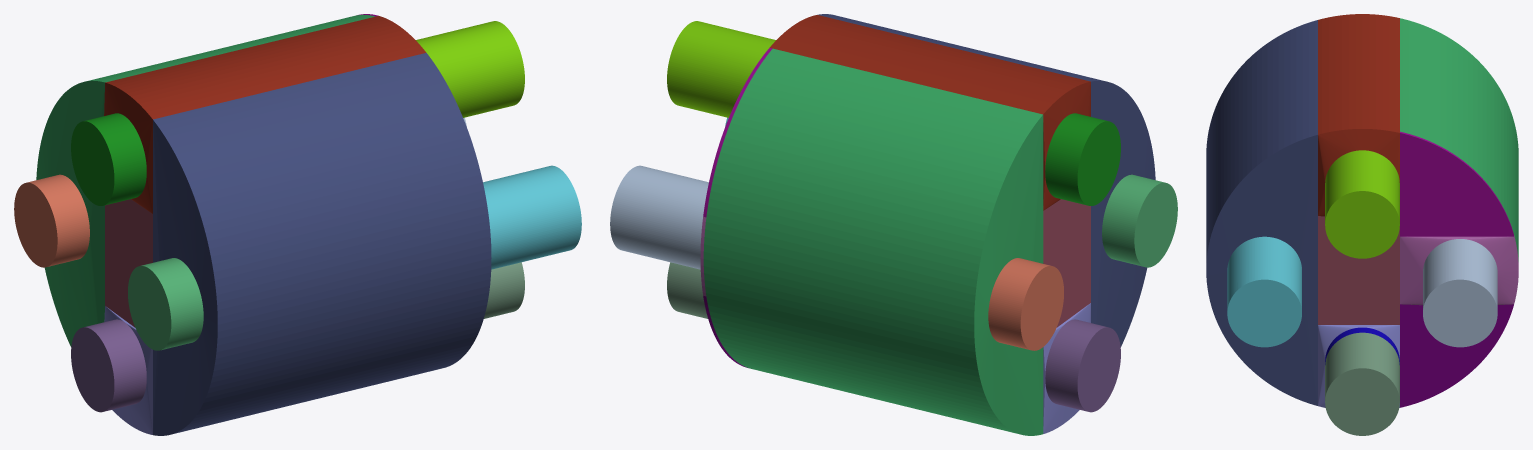
Rendered from 2_canonical.obj.
The picture shows the model from 3 angles, left to right: view 1: azimuth 30°, elevation 25°; view 2: azimuth 150°, elevation 25°; view 3: azimuth 270°, elevation 25°; orthographic projection. The views are drawn at different scales.
Visible parts, largest first — view 1: geometry_16, geometry_15, geometry_10, geometry_2, geometry_4, geometry_8, geometry_1, geometry_9, geometry_3, geometry_13, geometry_0, geometry_12; view 2: geometry_10, geometry_15, geometry_16, geometry_6, geometry_4, geometry_1, geometry_3, geometry_8, geometry_9, geometry_13, geometry_0, geometry_12 (+1 smaller); view 3: geometry_16, geometry_10, geometry_15, geometry_14, geometry_2, geometry_4, geometry_6, geometry_0, geometry_13, geometry_11, geometry_7, geometry_12 (+1 smaller).
Part boxes in pixels (x1,y1,x2,y2): geometry_16: (153,53,491,435); geometry_15: (104,16,426,213); geometry_10: (36,14,374,346); geometry_2: (483,165,581,269); geometry_4: (416,21,524,117); geometry_8: (71,113,146,205); geometry_1: (71,319,146,412); geometry_9: (14,174,89,267); geometry_3: (128,258,203,350); geometry_13: (105,199,152,327); geometry_0: (484,262,524,318); geometry_12: (104,306,152,434); geometry_10: (703,48,1043,435); geometry_15: (770,15,1090,210); geometry_16: (817,14,1155,347); geometry_6: (610,165,708,269); geometry_4: (667,21,775,117); geometry_1: (1045,319,1120,412); geometry_3: (1102,174,1177,267); geometry_8: (1045,113,1120,205); geometry_9: (988,258,1063,350); geometry_13: (1043,199,1090,327); geometry_0: (667,262,707,318); geometry_12: (1043,303,1090,433); geometry_16: (1206,20,1317,405); geometry_10: (1400,18,1518,261); geometry_15: (1318,14,1399,216); geometry_14: (1400,131,1513,236); geometry_2: (1227,236,1301,347); geometry_4: (1325,150,1399,258); geometry_6: (1423,239,1497,347); geometry_0: (1325,332,1399,435); geometry_13: (1318,216,1399,324); geometry_11: (1400,304,1513,407); geometry_7: (1400,235,1518,305); geometry_12: (1318,325,1399,407).
Size of the model in its own units: 0.03 by 0.023 by 0.023.
